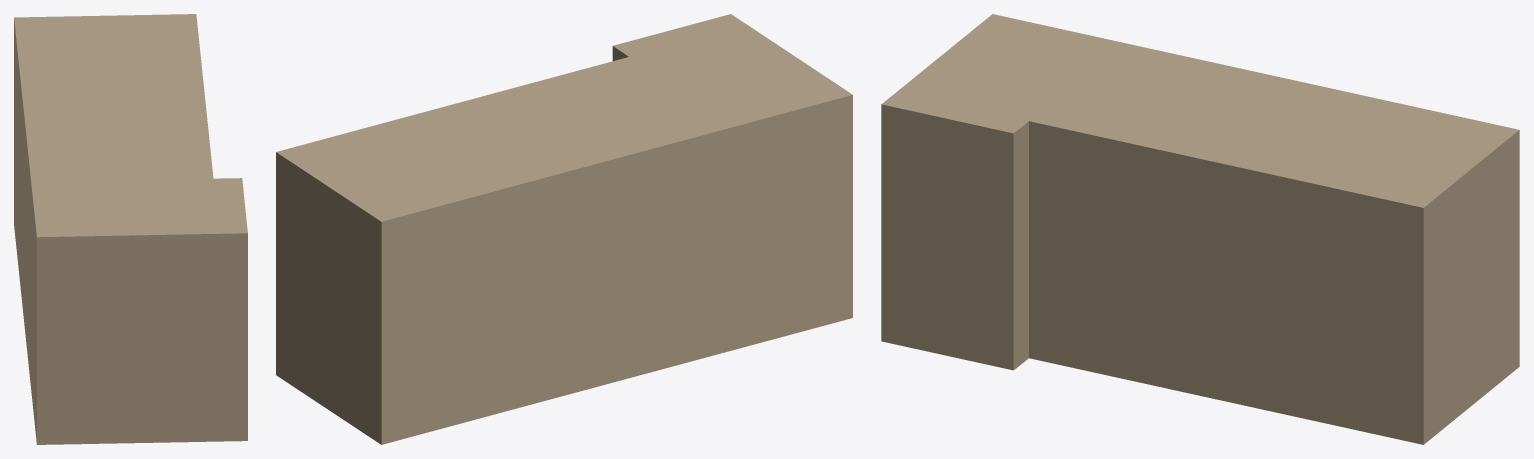
The model's file is bld_55879862.dae.
The picture shows the model from 3 angles, left to right: view 1: azimuth 30°, elevation 25°; view 2: azimuth 150°, elevation 25°; view 3: azimuth 270°, elevation 25°; orthographic projection. The views are drawn at different scales.
Parts seen in each view (by area): view 1: bld_55879862; view 2: bld_55879862; view 3: bld_55879862.
Boxes of the visible parts, box(x1,y1,x2,y2) form: bld_55879862: box(14, 14, 247, 444); bld_55879862: box(276, 14, 852, 444); bld_55879862: box(881, 14, 1519, 444).
Size of the model in its own units: 14.04 by 19.52 by 8.
